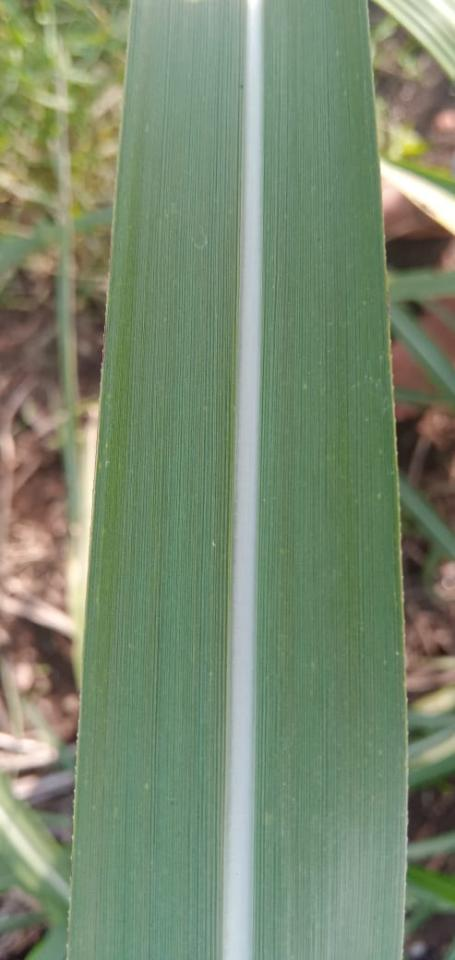Healthy: (68, 0, 248, 959), (258, 0, 407, 959)
